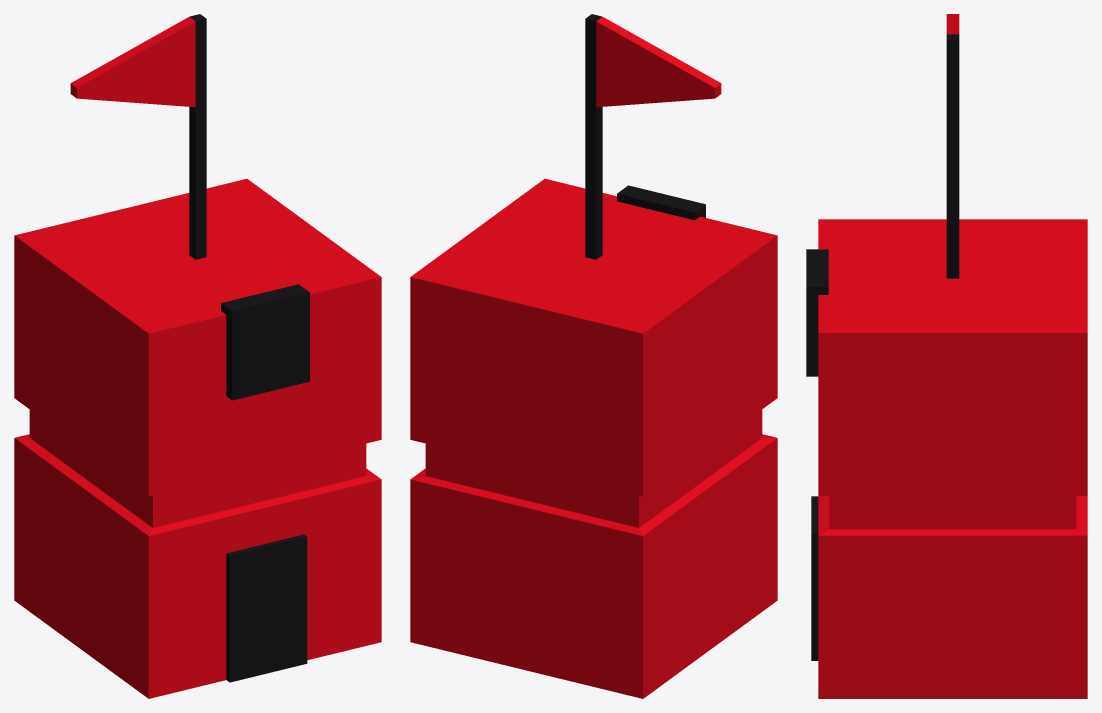
The model's file is Castle.fbx.
The picture shows the model from 3 angles, left to right: view 1: azimuth 30°, elevation 25°; view 2: azimuth 150°, elevation 25°; view 3: azimuth 270°, elevation 25°; orthographic projection.
Parts seen in each view (by area): view 1: Cube.002; view 2: Cube.002; view 3: Cube.002.
Part boxes in pixels (x1=…): Cube.002: x1=14, y1=14, x2=381, y2=698; Cube.002: x1=410, y1=14, x2=777, y2=698; Cube.002: x1=806, y1=14, x2=1087, y2=698.
Bounding box in the file's own units: 414 × 992 × 418.
